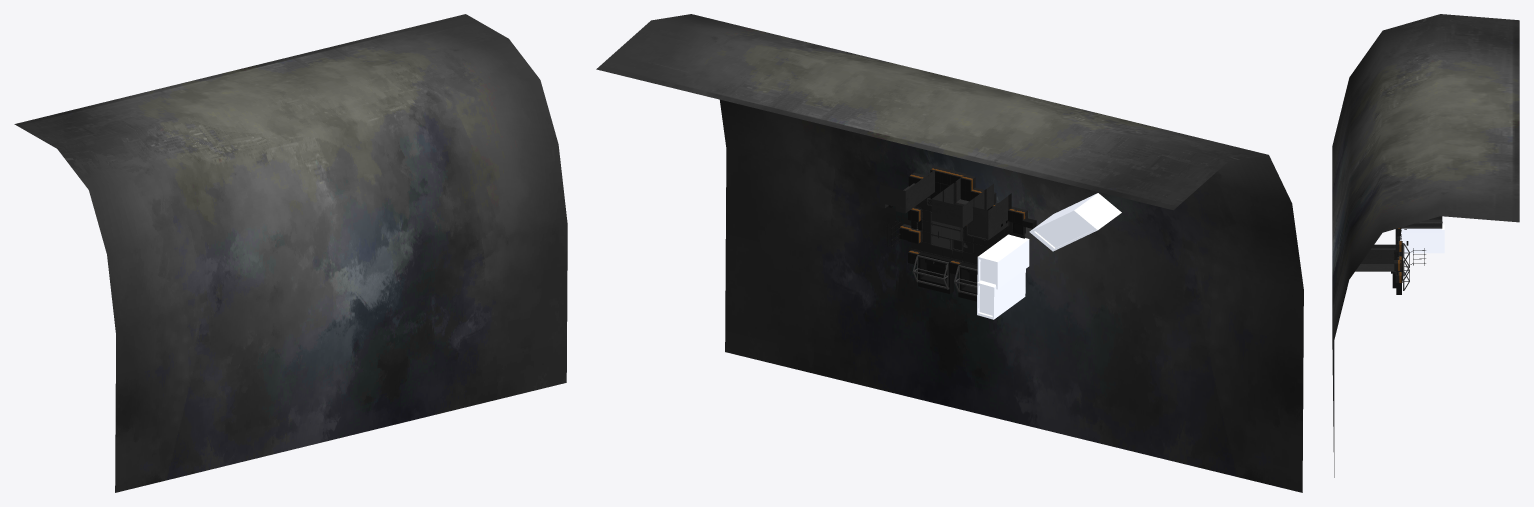
The model's file is BATTLE.fbx.
3 renders of one model, left to right at view 1: azimuth 30°, elevation 25°; view 2: azimuth 150°, elevation 25°; view 3: azimuth 270°, elevation 25°, orthographic. The views are drawn at different scales.
Visible parts, largest first — view 1: BG_Qcity; view 2: BG_Qcity, Shadow (3), Shadow (5), S_Outworld_prop_0374, Shadow (4), S_Outworld_prop_015, S_Outworld_prop_0109, OP_18; view 3: BG_Qcity, Shadow (4), S_Outworld_prop_0689, S_Outworld_prop_015.
Boxes of the visible parts, box(x1,y1,x2,y2) form: BG_Qcity: box(14, 14, 567, 492); BG_Qcity: box(596, 14, 1303, 492); Shadow (3): box(1029, 193, 1121, 251); Shadow (5): box(977, 234, 1029, 289); S_Outworld_prop_0374: box(931, 176, 993, 227); Shadow (4): box(977, 269, 1025, 319); S_Outworld_prop_015: box(879, 169, 935, 213); S_Outworld_prop_0109: box(966, 193, 1011, 240); OP_18: box(918, 252, 954, 293); BG_Qcity: box(1332, 14, 1519, 477); Shadow (4): box(1400, 224, 1444, 253); S_Outworld_prop_0689: box(1355, 244, 1396, 271); S_Outworld_prop_015: box(1401, 216, 1442, 228).
Bounding box in the file's own units: 0.5613 × 0.3583 × 0.2194.
